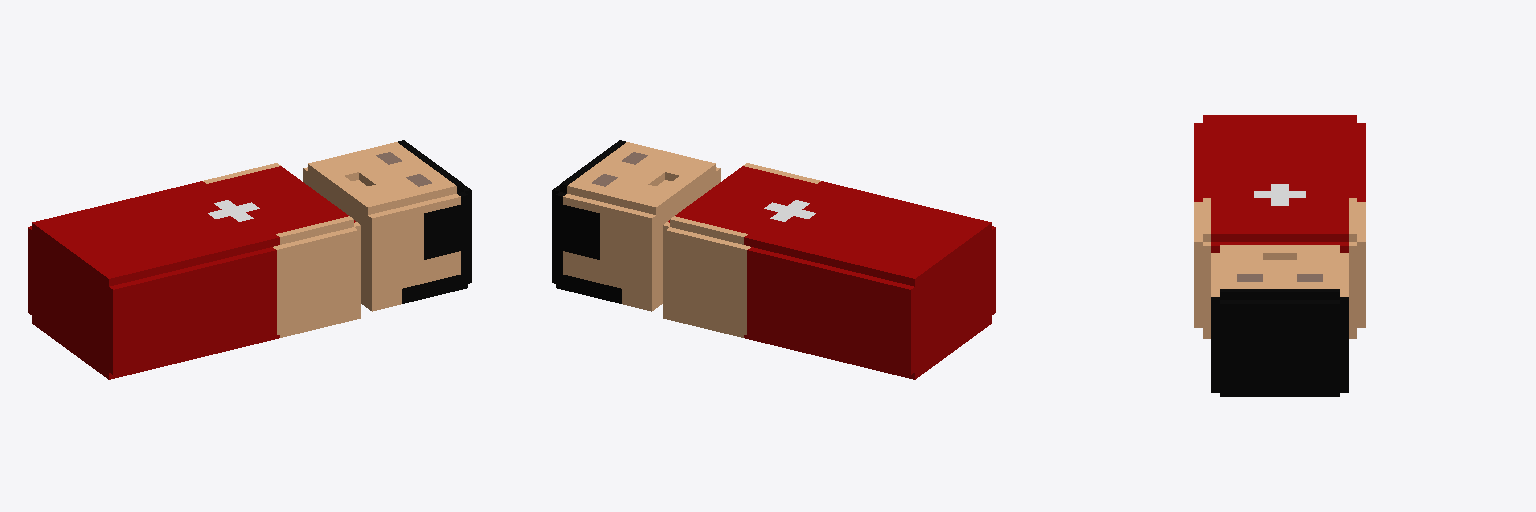
3 renders of one model, left to right at view 1: azimuth 30°, elevation 25°; view 2: azimuth 150°, elevation 25°; view 3: azimuth 270°, elevation 25°, orthographic.
Visible parts, largest first — view 1: object 1; view 2: object 1; view 3: object 1.
Part boxes in pixels (left/top/right/bottom): object 1: left=28, top=140, right=471, bottom=379; object 1: left=552, top=140, right=995, bottom=379; object 1: left=1194, top=115, right=1365, bottom=396.
Bounding box in the file's own units: 5 × 1.3 × 2.
Materials: 1 (1 with a texture image).